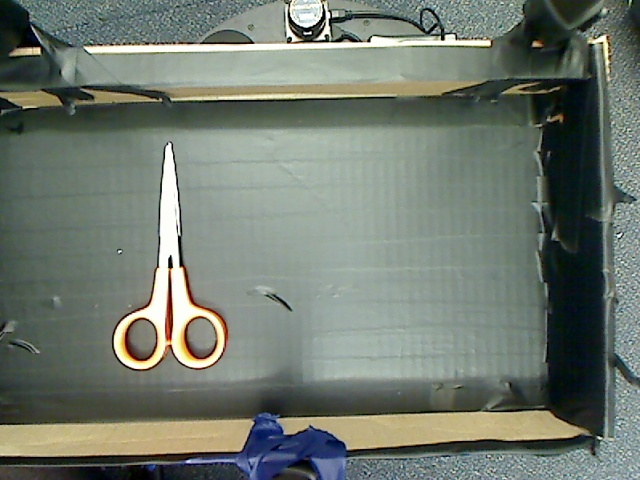scissors: (108, 126, 237, 374)
